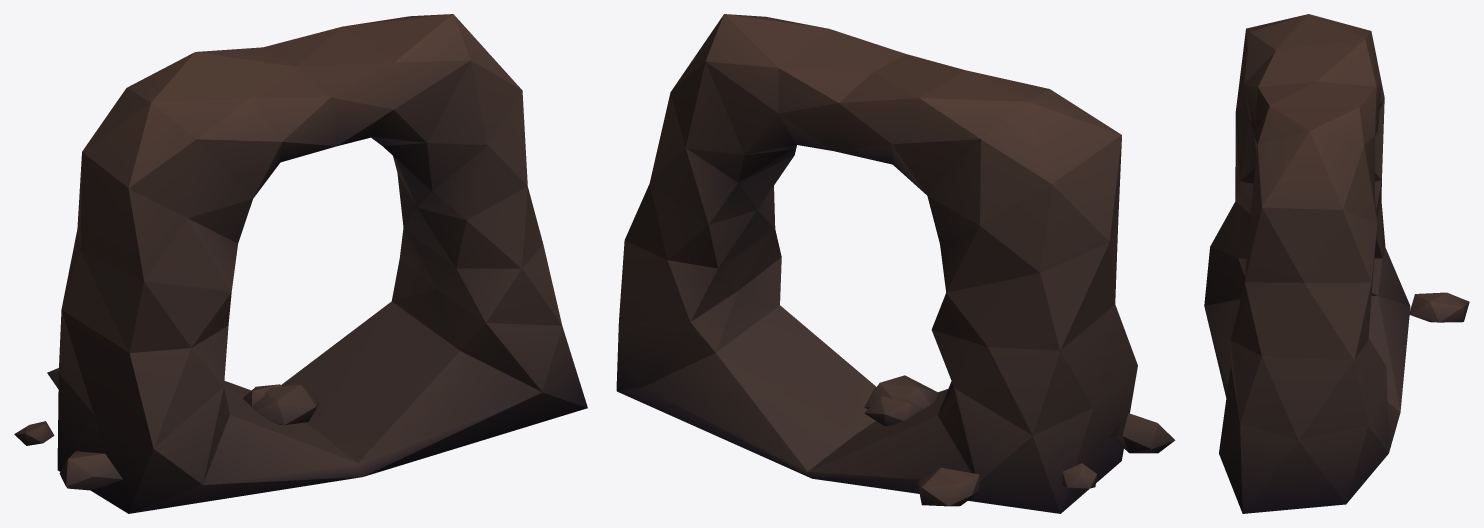
The model's file is arch.lod1.glb.
3 views of the same model, side by side, from view 1: azimuth 30°, elevation 25°; view 2: azimuth 150°, elevation 25°; view 3: azimuth 270°, elevation 25° (orthographic). The views are drawn at different scales.
Parts seen in each view (by area): view 1: arch_s1_lod1; view 2: arch_s1_lod1; view 3: arch_s1_lod1.
Boxes of the visible parts, x1,y1,x2,y2 form: arch_s1_lod1: [14, 14, 587, 513]; arch_s1_lod1: [616, 14, 1175, 513]; arch_s1_lod1: [1204, 14, 1469, 513].
Size of the model in its own units: 6.42 by 4.77 by 3.27.
